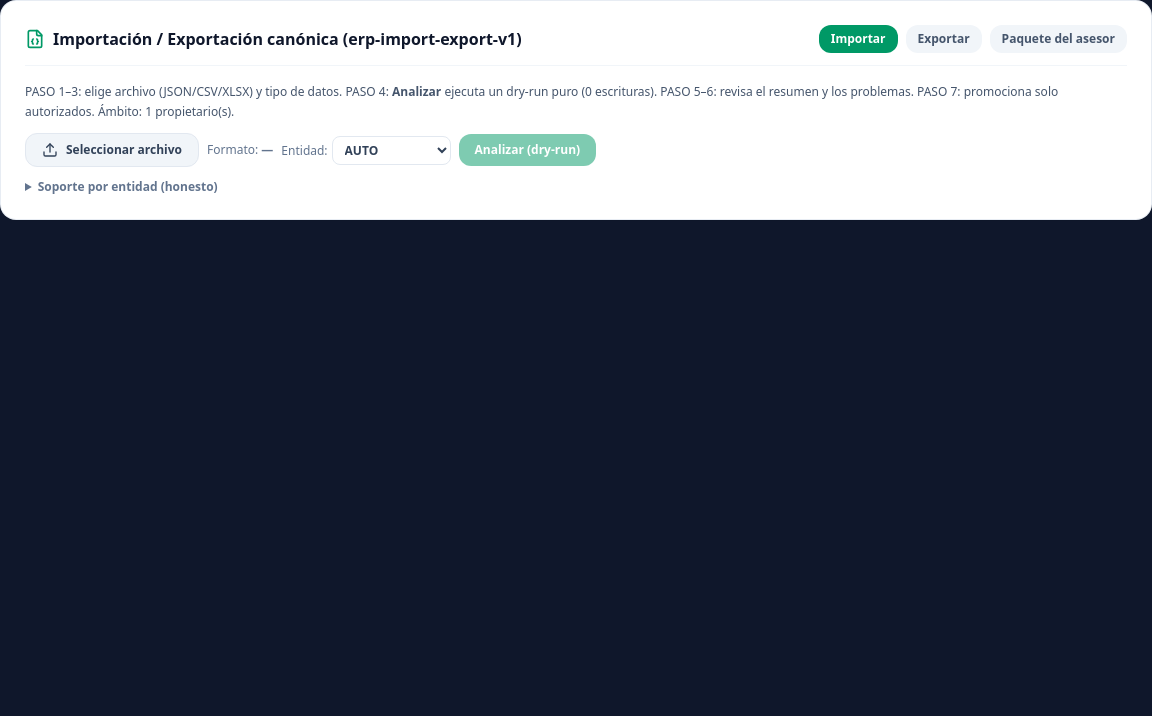
Test: P6 · UI del paquete del asesor › revisa el alcance, declara documentos no incluidos y descarga un ZIP verificado
The image size is (1152, 716).
Click the button "Paquete del asesor" at (1058, 39), box x1=990 y1=25 x2=1127 y2=53
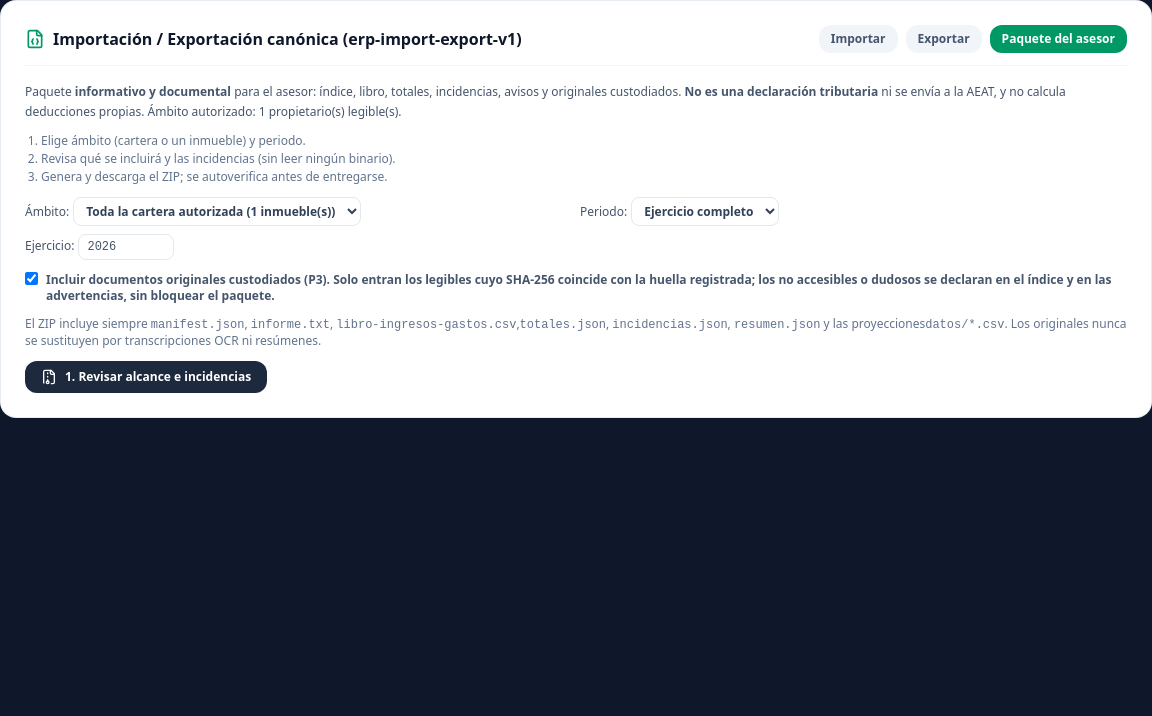
Replace the text in the field labelled "Ejercicio:" with "2024" at (126, 247), box x1=78 y1=234 x2=174 y2=260
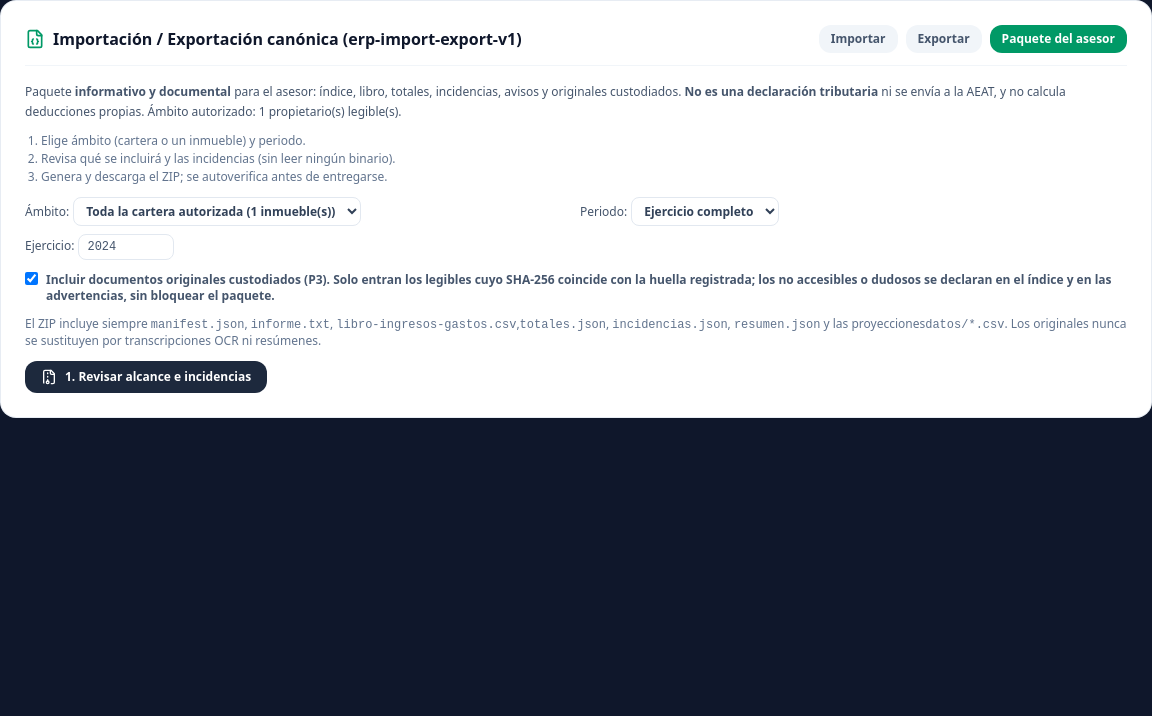
Click the button "1. Revisar alcance e incidencias" at (146, 377), box x1=25 y1=361 x2=267 y2=393
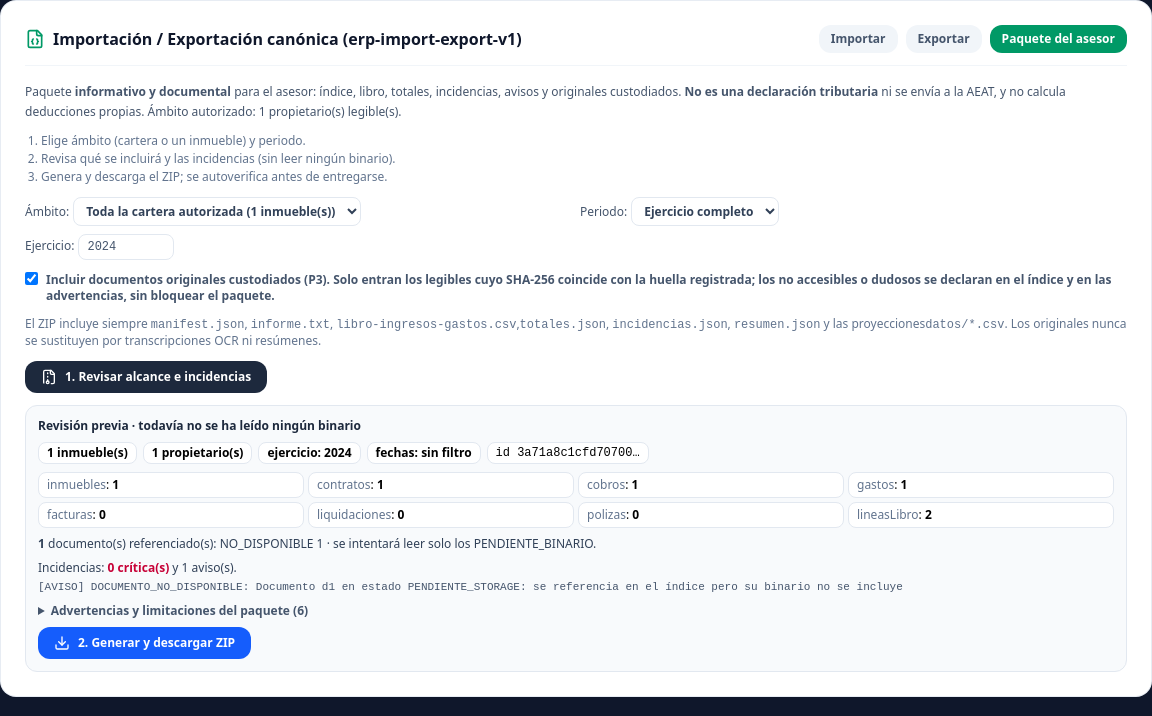
Result: the text "Revisión previa · todavía no se ha leído ningún binario" is shown at x1=38 y1=417 x2=361 y2=434
Result: the text "1 inmueble(s)" is shown at x1=38 y1=442 x2=137 y2=464
Result: the text "NO_DISPONIBLE" is shown at x1=220 y1=535 x2=324 y2=552
Click the button "2. Generar y descargar ZIP" at (145, 643), box x1=38 y1=627 x2=251 y2=659
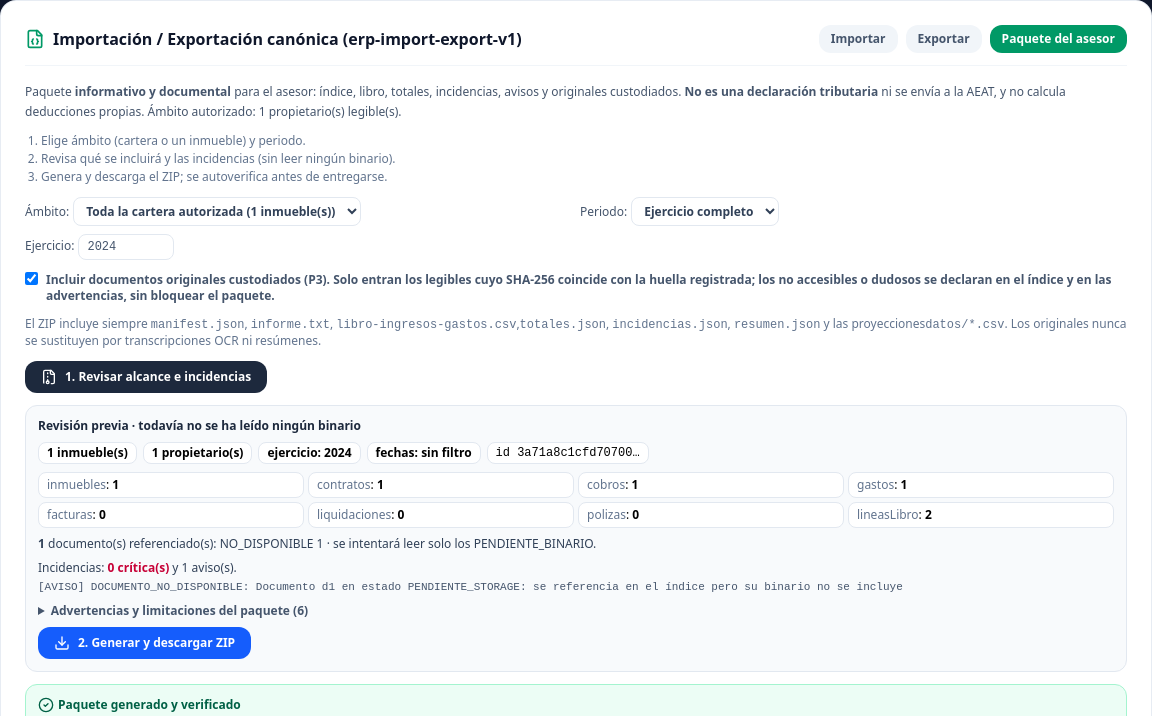
Result: the text "Paquete generado y verificado" is shown at x1=38 y1=696 x2=241 y2=713
